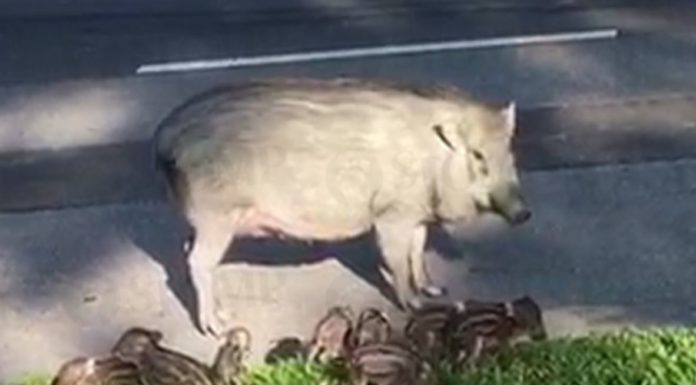boar: (148, 71, 543, 298)
